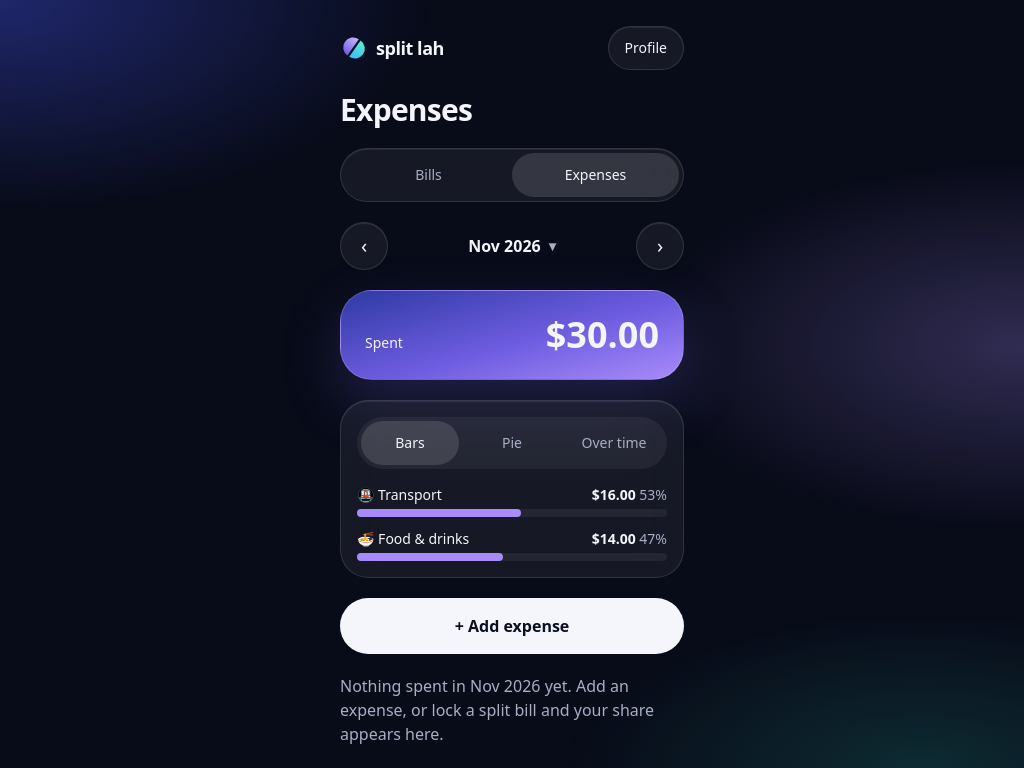
Test: Expenses: choosing dates on the calendar › a quick pick shows those days, and ‹ › step by the same length
This screenshot has width=1024, height=768.
Step 1. Click the button "Nov 2026 ▾" → [512, 246], box [452,224,572,268]
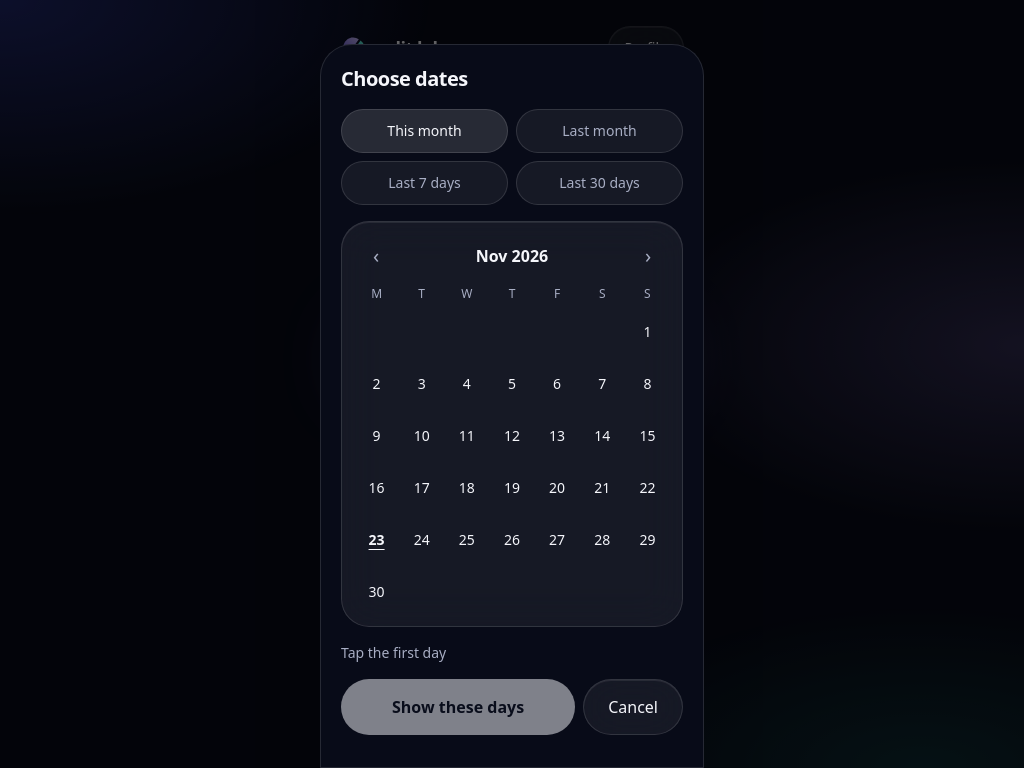
Step 2. Click the button "Last 7 days" → [424, 183], box [341,161,508,205]
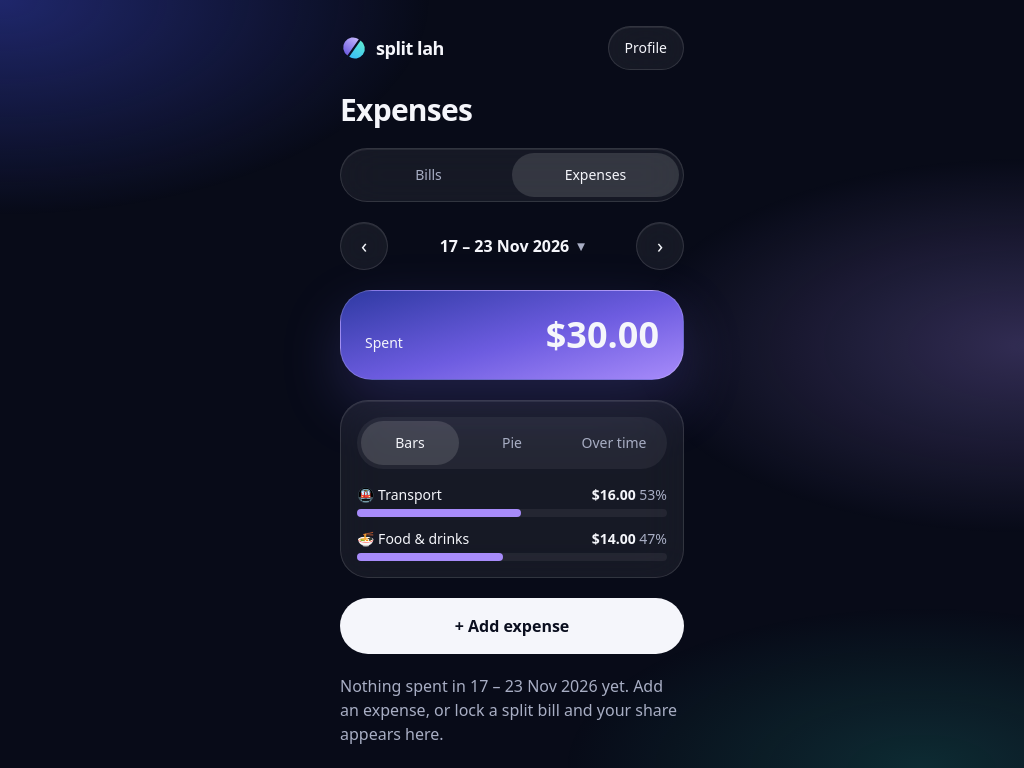
Expected: the heading "17 – 23 Nov 2026 ▾" is shown, [424,224,600,268]
Expected: the dialog is gone
Step 3. Click the button named "Previous days" → [364, 246], box [340,222,388,270]
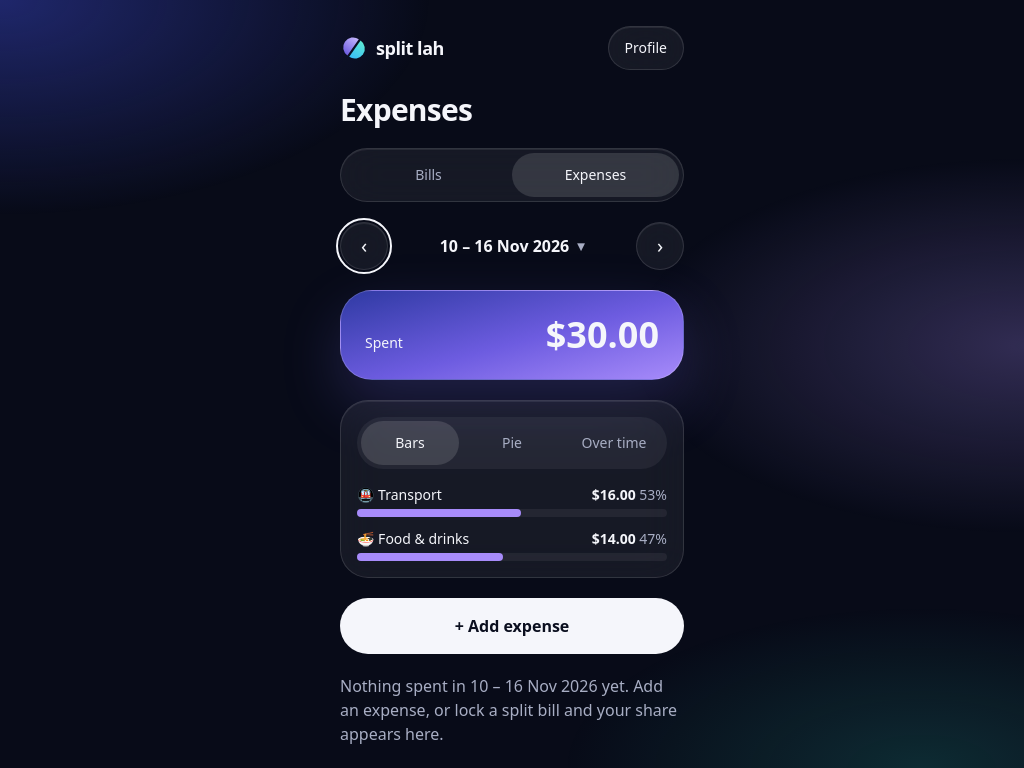
Expected: the heading "10 – 16 Nov 2026 ▾" is shown, [424,224,600,268]
